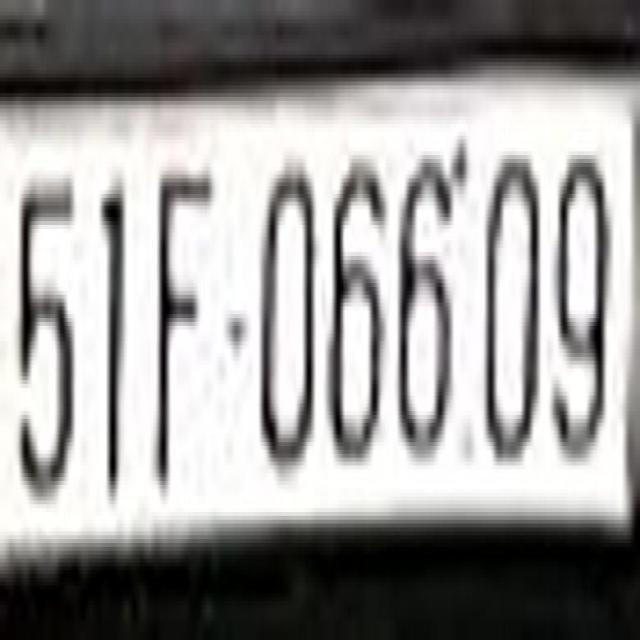0: (486, 143, 540, 466), (262, 166, 316, 470)
1: (96, 163, 125, 497)
5: (18, 162, 79, 500)
6: (398, 144, 454, 478), (330, 151, 384, 485)
9: (553, 140, 607, 458)
F: (157, 159, 211, 493)
